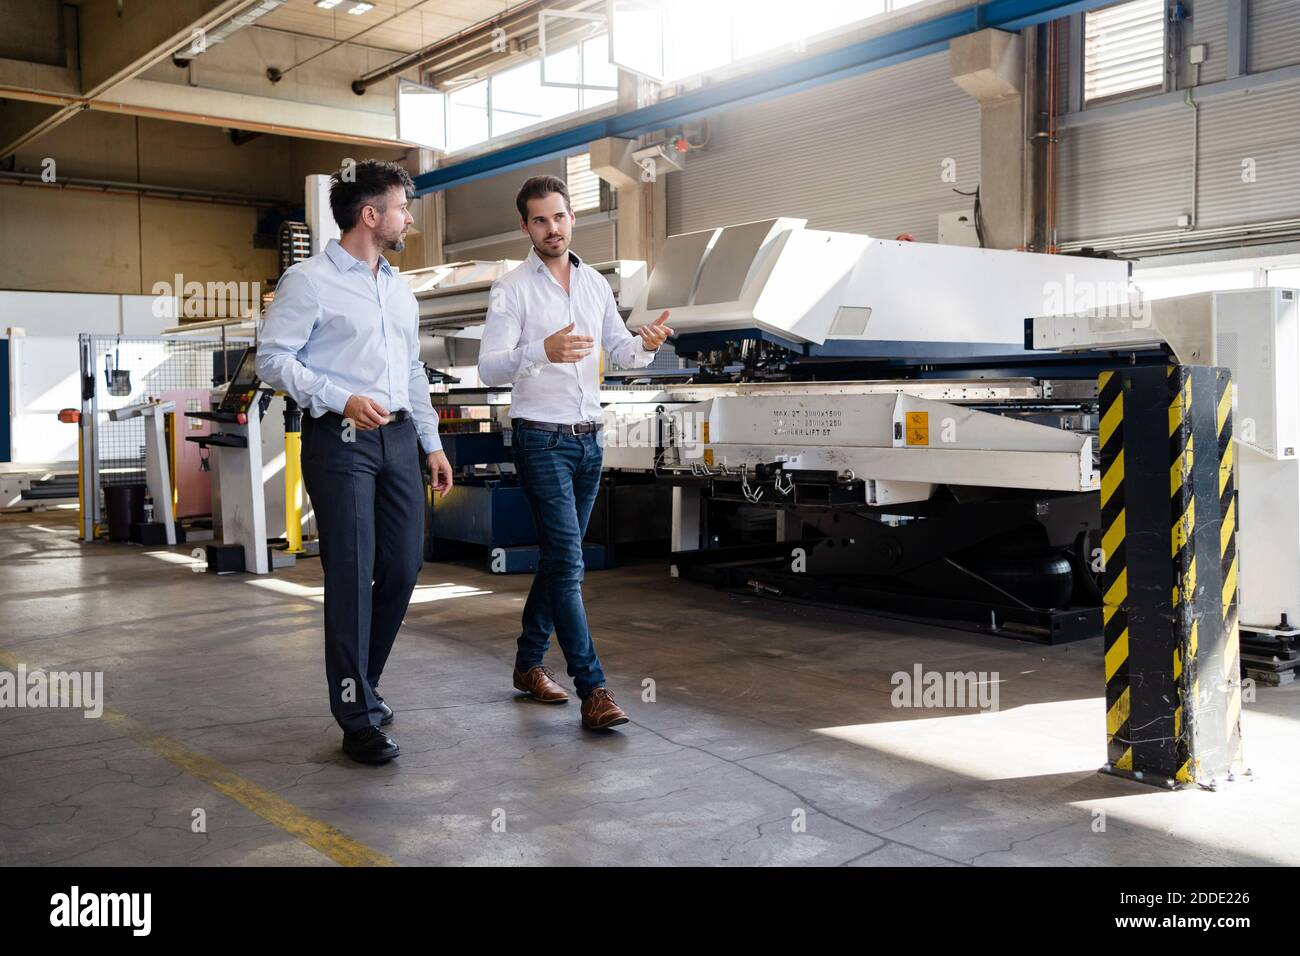person: (259, 161, 454, 756), (479, 176, 674, 725)
